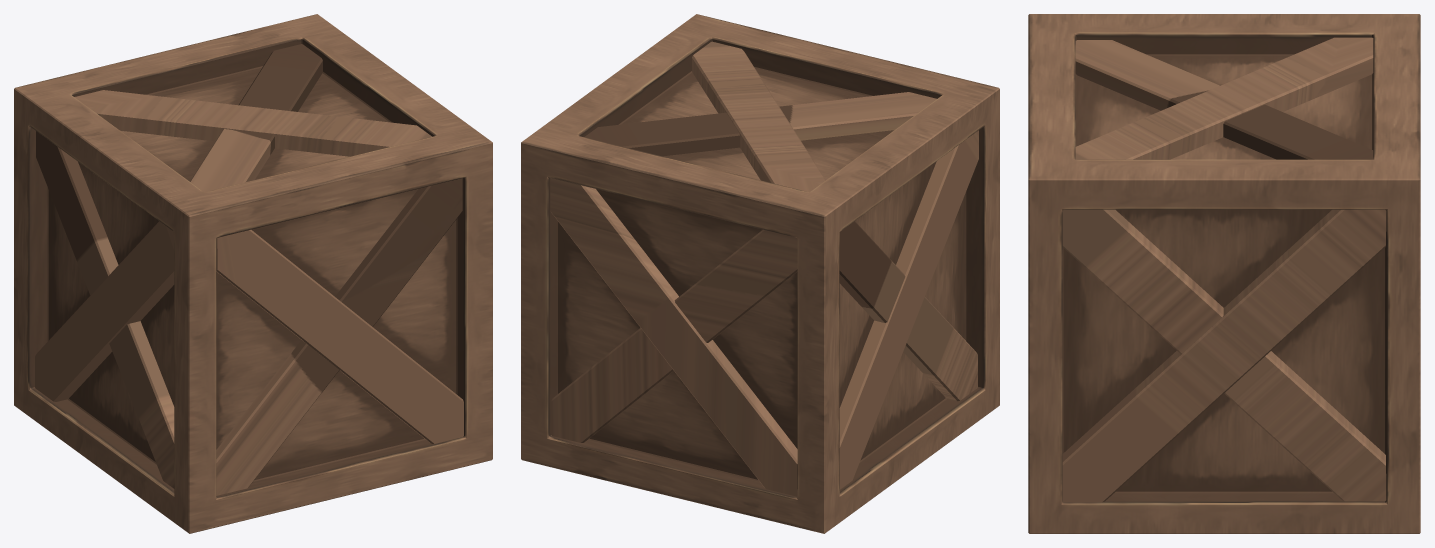
3 views of the same model, side by side, from view 1: azimuth 30°, elevation 25°; view 2: azimuth 150°, elevation 25°; view 3: azimuth 270°, elevation 25° (orthographic). The views are drawn at different scales.
Visible parts, largest first — view 1: Box2ForTexturing; view 2: Box2ForTexturing; view 3: Box2ForTexturing.
Part boxes in pixels (bbox=[...]): Box2ForTexturing: bbox=[14, 14, 492, 533]; Box2ForTexturing: bbox=[521, 14, 999, 533]; Box2ForTexturing: bbox=[1028, 14, 1420, 533].
Bounding box in the file's own units: 49.98 × 49.98 × 49.98.
